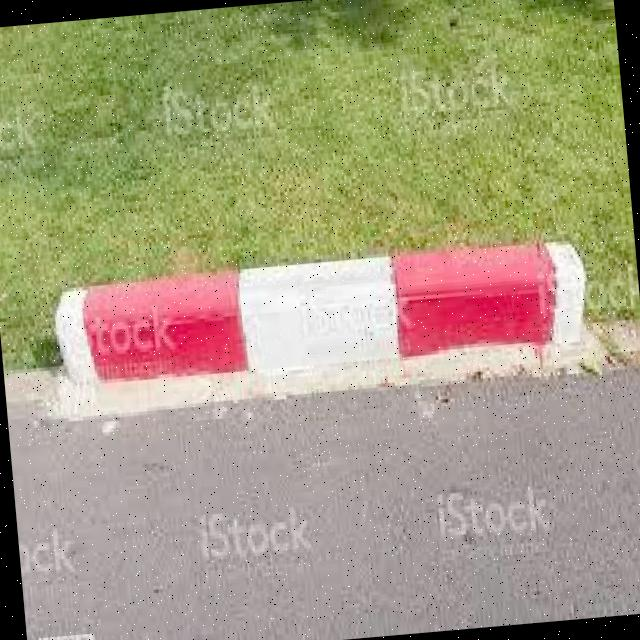curb: (54, 248, 559, 383)
